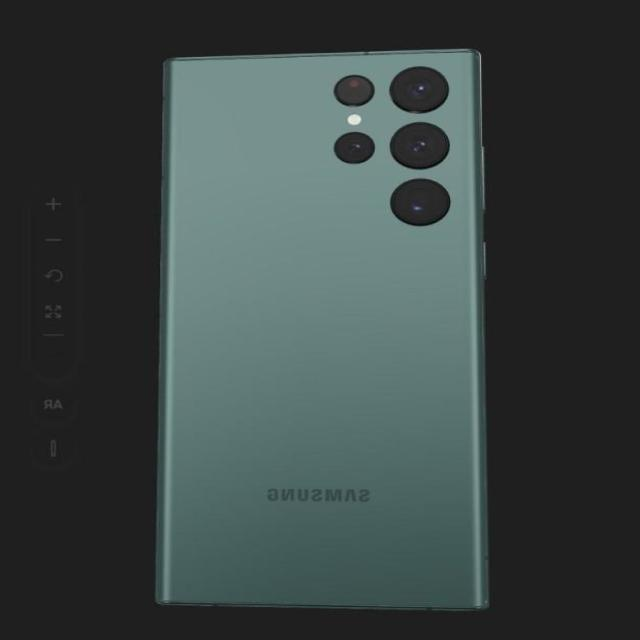mobile: (147, 43, 489, 619)
